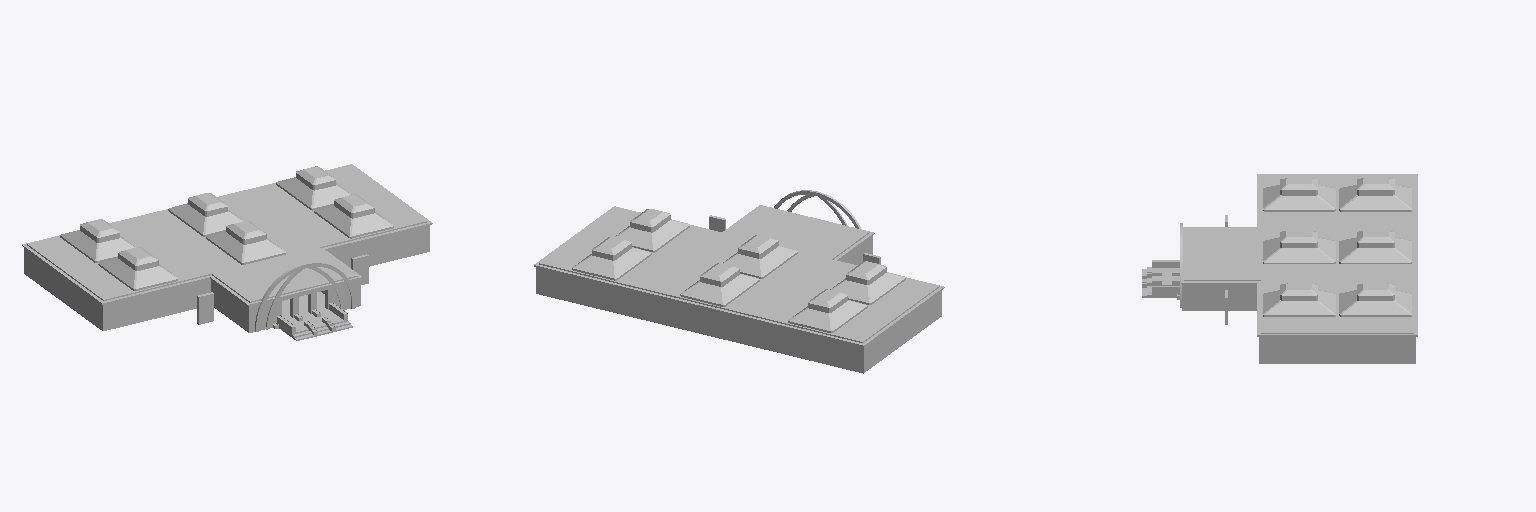
File: NFTZeum_Rhino V0.2.obj
3 renders of one model, left to right at view 1: azimuth 30°, elevation 25°; view 2: azimuth 150°, elevation 25°; view 3: azimuth 270°, elevation 25°, orthographic.
Parts seen in each view (by area): view 1: Mesh1 Model; view 2: Mesh1 Model; view 3: Mesh1 Model.
Part boxes in pixels (x1,y1,x2,y2): Mesh1 Model: (22, 164, 432, 340); Mesh1 Model: (534, 190, 944, 373); Mesh1 Model: (1142, 174, 1417, 363).
Bounding box in the file's own units: 39.8 × 6.43 × 28.8.